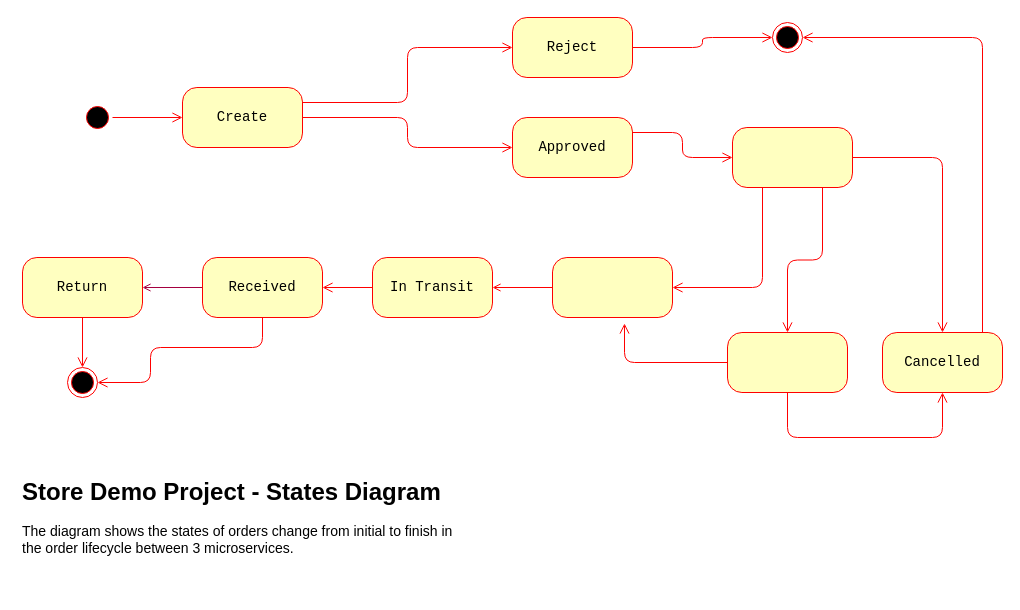
Image size: 1020x610. Some labels were removed from this diagram. The centre of each missing label's shape, as x and y in pixels:
"ON Hold" belongs at point (787, 362).
"Processing" belongs at point (792, 157).
"Shipped" belongs at point (612, 287).
